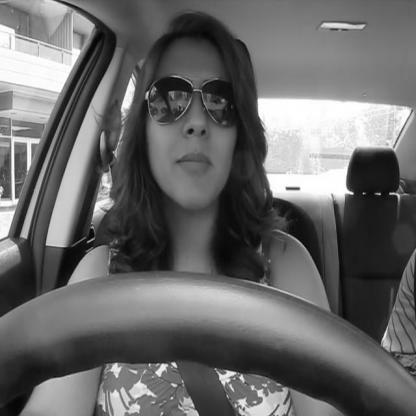seatbelt: (96, 4, 282, 416)
